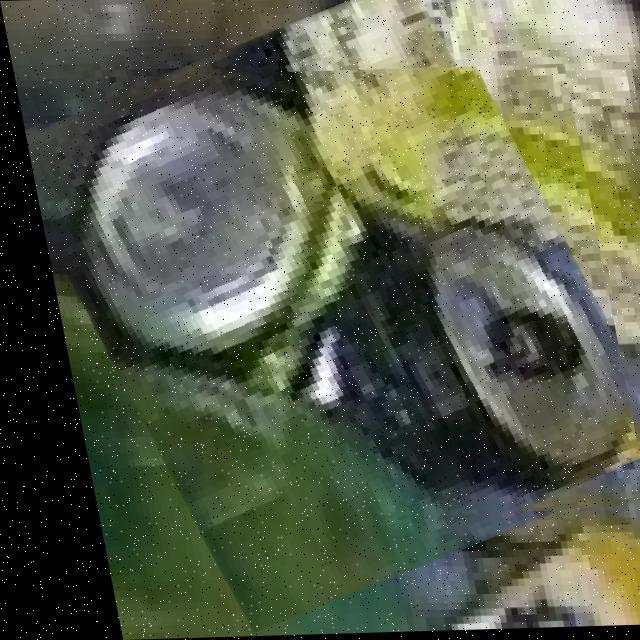litter: (29, 74, 608, 527)
